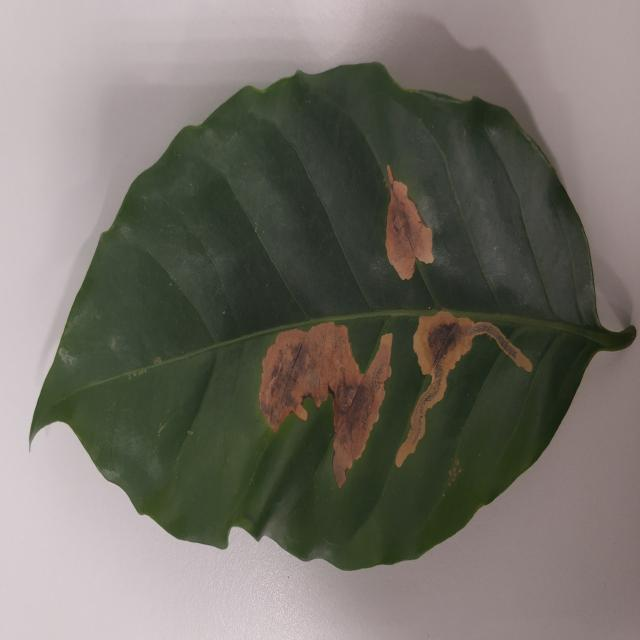Plaga-Minador: (29, 62, 635, 573)
